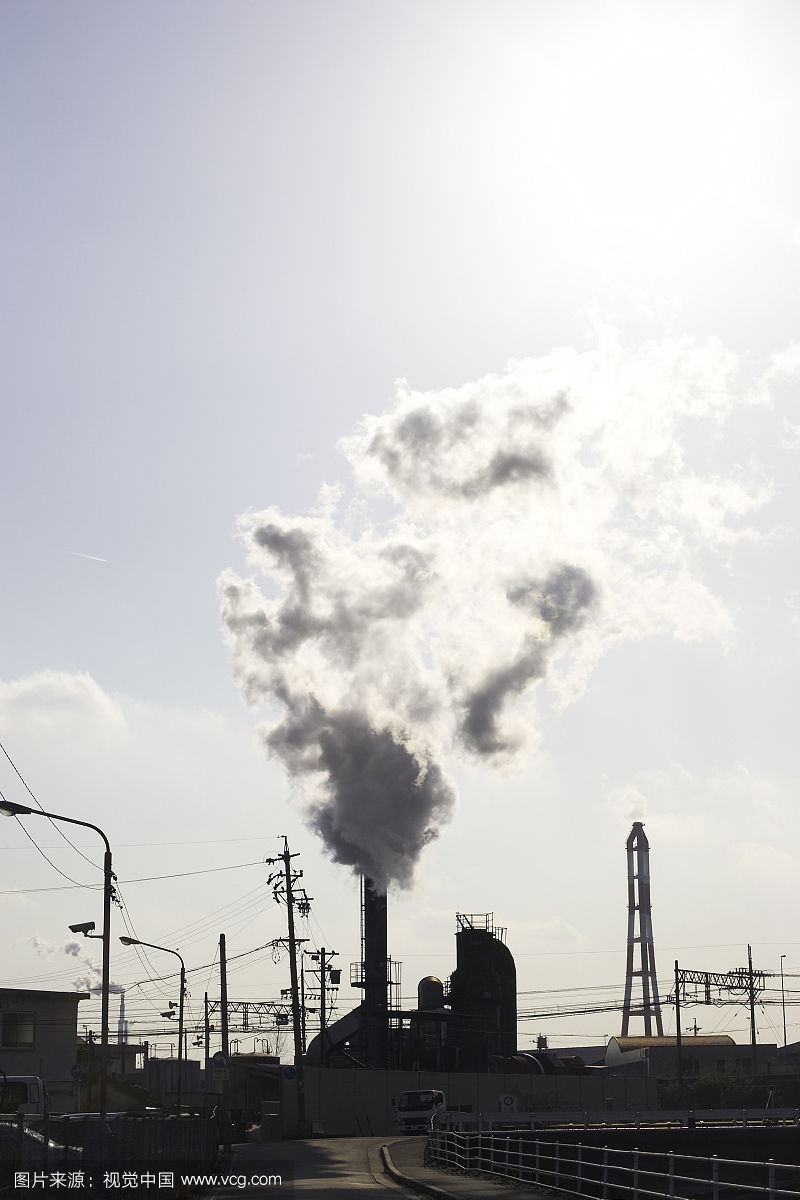dust: (206, 552, 580, 895)
